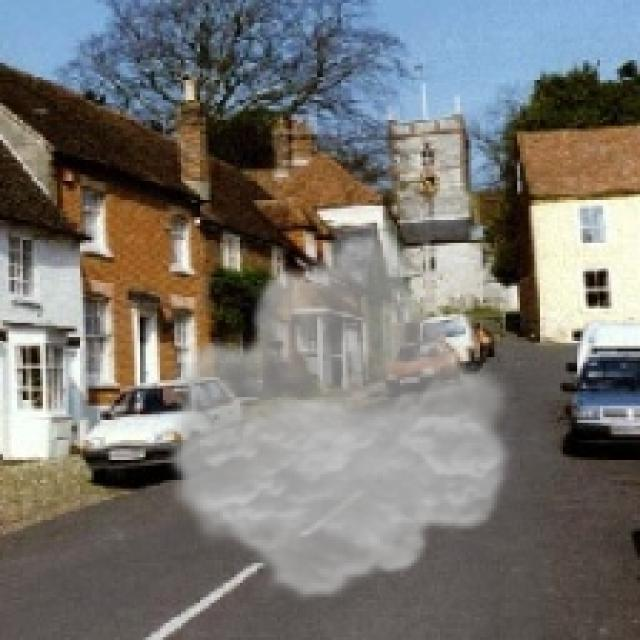smoke: (160, 223, 520, 603)
